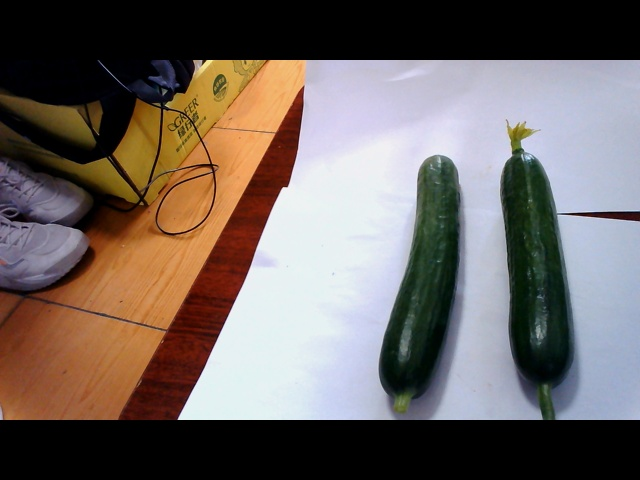cucumber: (487, 137, 584, 417), (377, 128, 464, 401)
